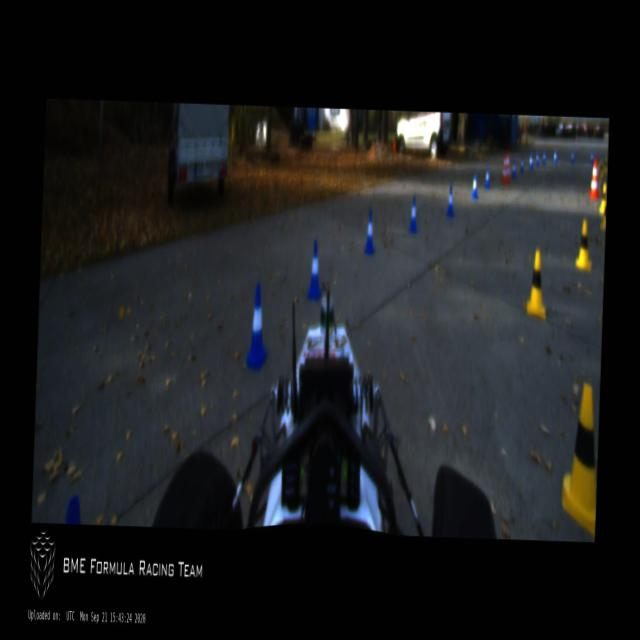blue_cone: (242, 284, 269, 369), (305, 238, 324, 300), (363, 209, 375, 252), (407, 197, 418, 231), (444, 186, 454, 217), (471, 172, 478, 198), (484, 167, 491, 187), (511, 157, 517, 179), (552, 147, 558, 164), (519, 154, 524, 173), (528, 151, 533, 170), (535, 149, 540, 165), (570, 148, 575, 164), (589, 148, 594, 164), (542, 149, 546, 164)
large_orange_cone: (590, 157, 600, 200), (501, 151, 508, 185)
yellow_cone: (560, 381, 600, 526), (524, 247, 548, 319), (576, 218, 592, 268), (599, 182, 606, 213), (600, 198, 606, 230), (603, 154, 607, 173), (600, 158, 604, 176)
